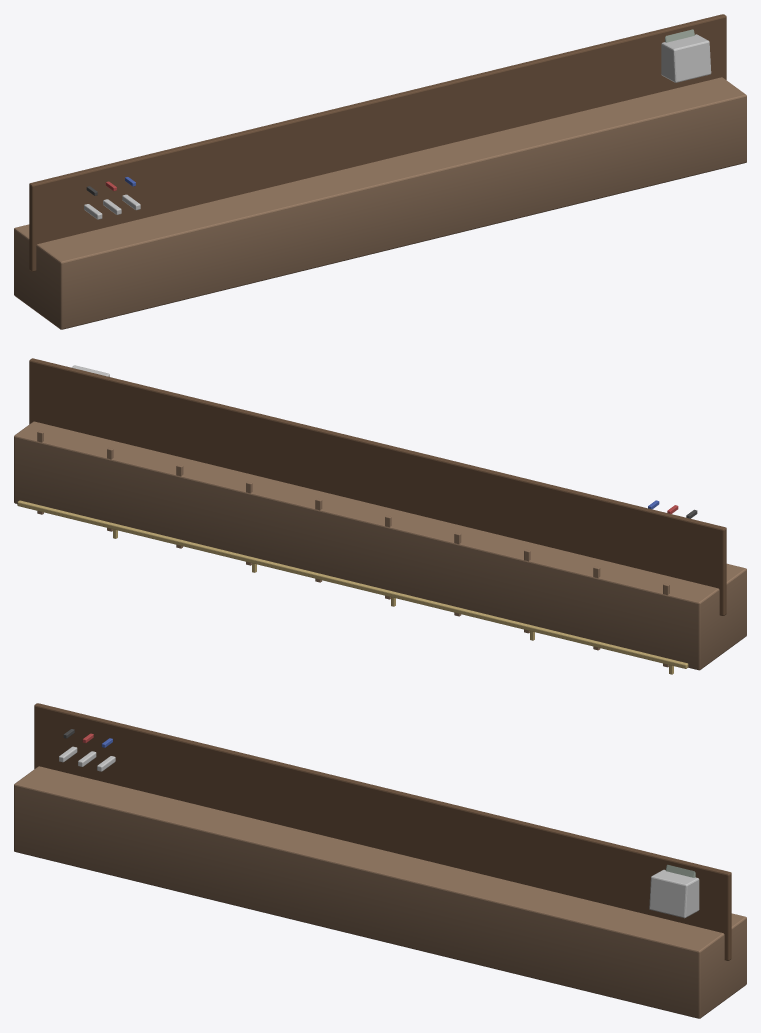
Rendered from counter.glb.
3 views of the same model, one above another, from view 1: azimuth 30°, elevation 25°; view 2: azimuth 150°, elevation 25°; view 3: azimuth 330°, elevation 25° (orthographic).
Visible parts, largest first — view 1: counter_front, counter_top, counter_register; view 2: counter_front, counter_top, counter_rail_brass, counter_slat; view 3: counter_front, counter_top, counter_register.
Boxes of the visible parts, box(x1,y1,x2,y2) form: counter_front: box(14, 77, 746, 329); counter_top: box(29, 14, 726, 271); counter_register: box(661, 34, 711, 82); counter_front: box(14, 421, 746, 670); counter_top: box(29, 358, 726, 615); counter_rail_brass: box(17, 500, 688, 668); counter_slat: box(37, 430, 669, 667); counter_front: box(14, 766, 746, 1018); counter_top: box(34, 703, 731, 960); counter_register: box(649, 869, 699, 918).
Size of the model in its own units: 8 by 1.49 by 1.05.
